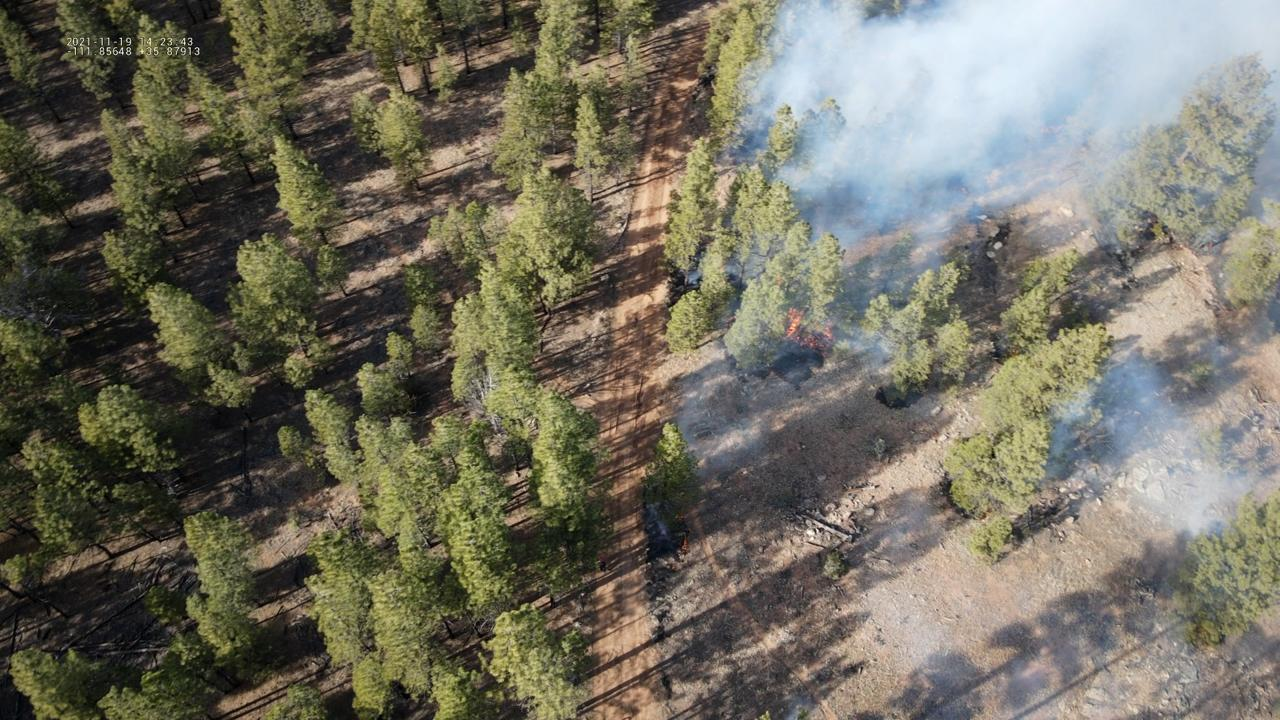fire: (781, 306, 834, 354), (681, 538, 688, 551)
smoke: (675, 2, 1280, 483), (1046, 356, 1280, 560), (647, 506, 668, 543)
